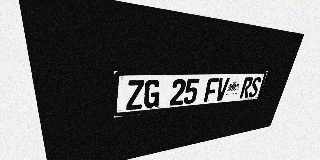2: (170, 79, 187, 106)
5: (183, 78, 200, 104)
F: (203, 78, 219, 102)
G: (143, 79, 161, 108)
R: (239, 77, 254, 98)
S: (248, 77, 262, 98)
V: (214, 78, 230, 101)
Z: (126, 80, 144, 110)
